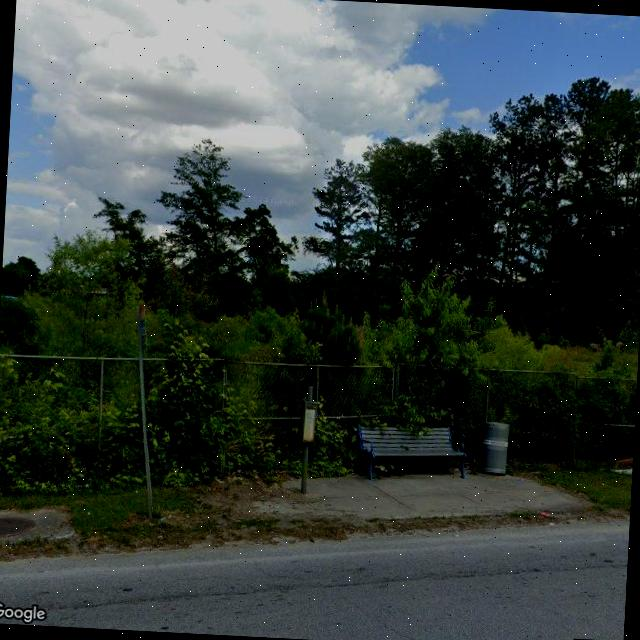seating: (355, 422, 473, 485)
trash_can: (481, 421, 510, 475)
